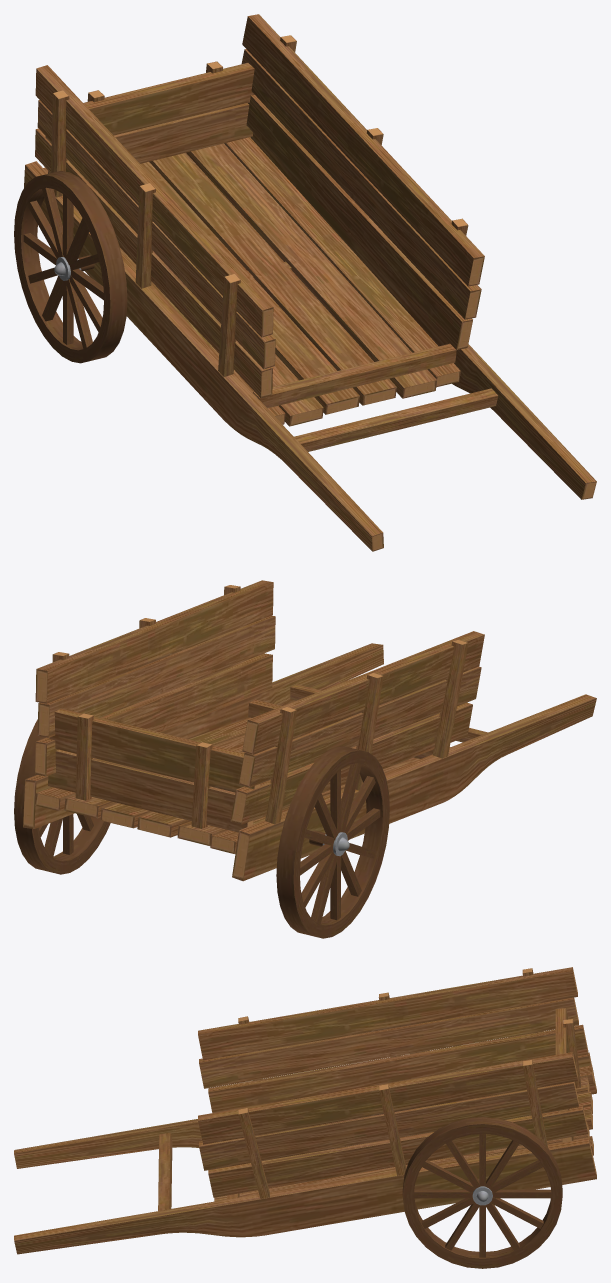
The model's file is p_Prop_Wagon.glb.
3 renders of one model, top to bottom at view 1: azimuth 30°, elevation 25°; view 2: azimuth 150°, elevation 25°; view 3: azimuth 270°, elevation 25°, orthographic. The views are drawn at different scales.
Parts seen in each view (by area): view 1: Prop_Wagon; view 2: Prop_Wagon; view 3: Prop_Wagon.
Boxes of the visible parts, x1,y1,x2,y2 form: Prop_Wagon: (14, 14, 596, 551); Prop_Wagon: (14, 580, 596, 938); Prop_Wagon: (14, 967, 596, 1268).
Bounding box in the file's own units: 1.95 × 1.53 × 4.02.
1 material, 1 textured.
